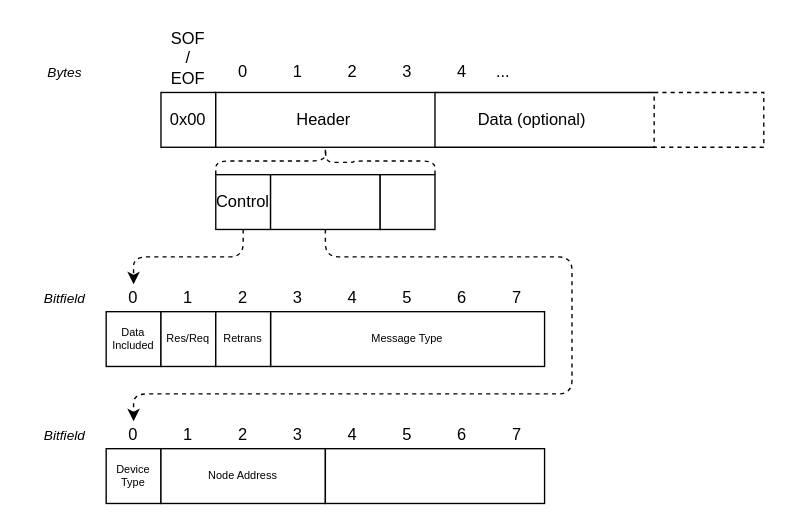
This 788x527 diagram has some shape labels left out. Each missing label, with the box of its shape:
CRC8: (379, 173, 435, 229)
Device Address: (324, 447, 545, 503)
Padding: (653, 91, 764, 147)
Routing: (269, 173, 380, 229)
